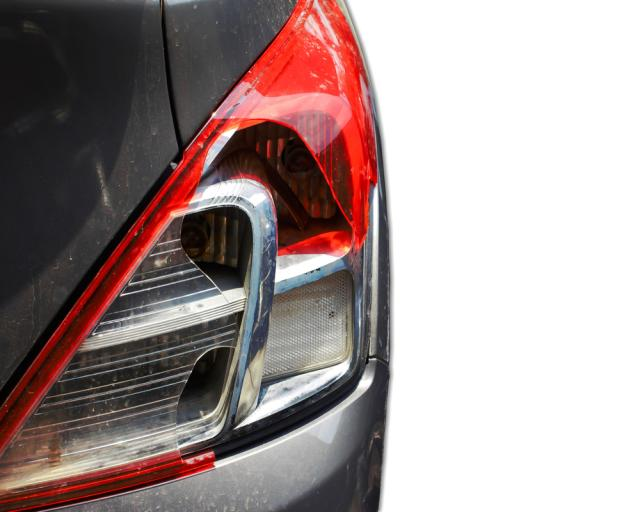lamp broken: (0, 0, 377, 512)
